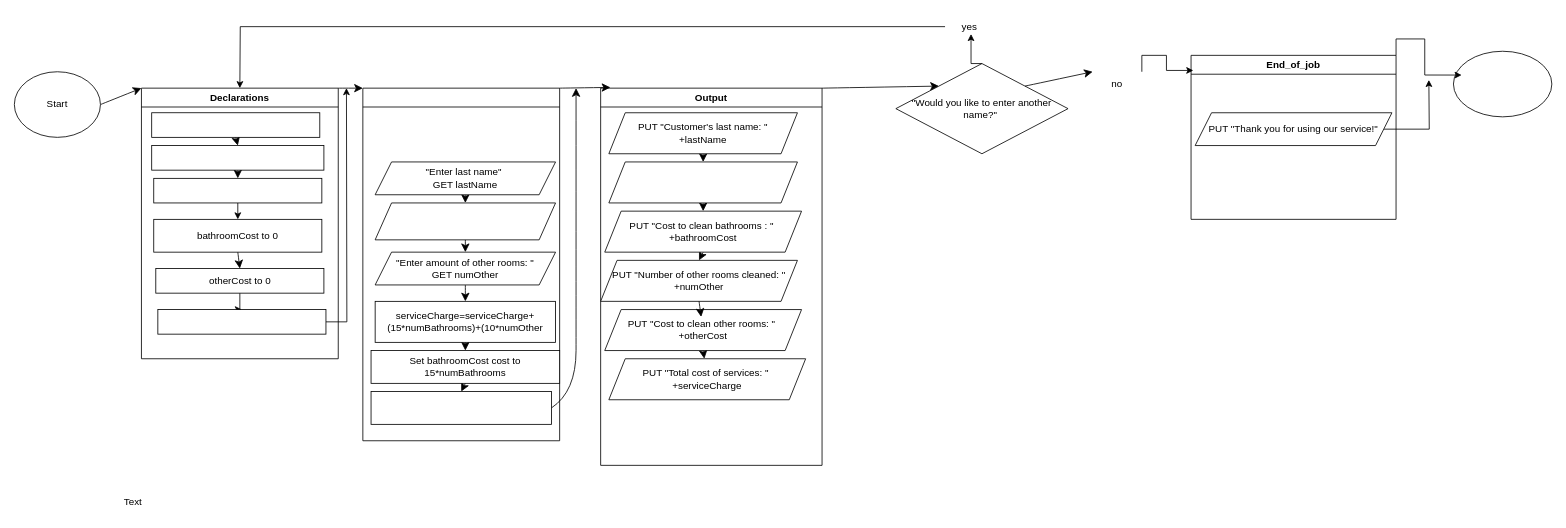
The diagram is 1566 pixels wide and 528 high, and some of its shapes have lost their labels. The shapes that lost their labels are listed below. From the top down, each one's box as (x1, y1, x2, y2) in pixels, then its label:
(1453, 50, 1552, 117): End
(151, 112, 320, 137): lastName to ""
(151, 145, 324, 170): numOther to 0
(153, 178, 322, 203): numBathrooms to 0
(608, 161, 797, 203): PUT "Number of bathrooms cleaned: " +numBathrooms
(374, 202, 556, 240): "Enter amount of bathrooms: " GET numBathrooms
(362, 87, 560, 441): Calculate_service_charge
(157, 309, 326, 334): serviceCharge to 40
(370, 391, 551, 424): Set otherCost to 10*numOther
